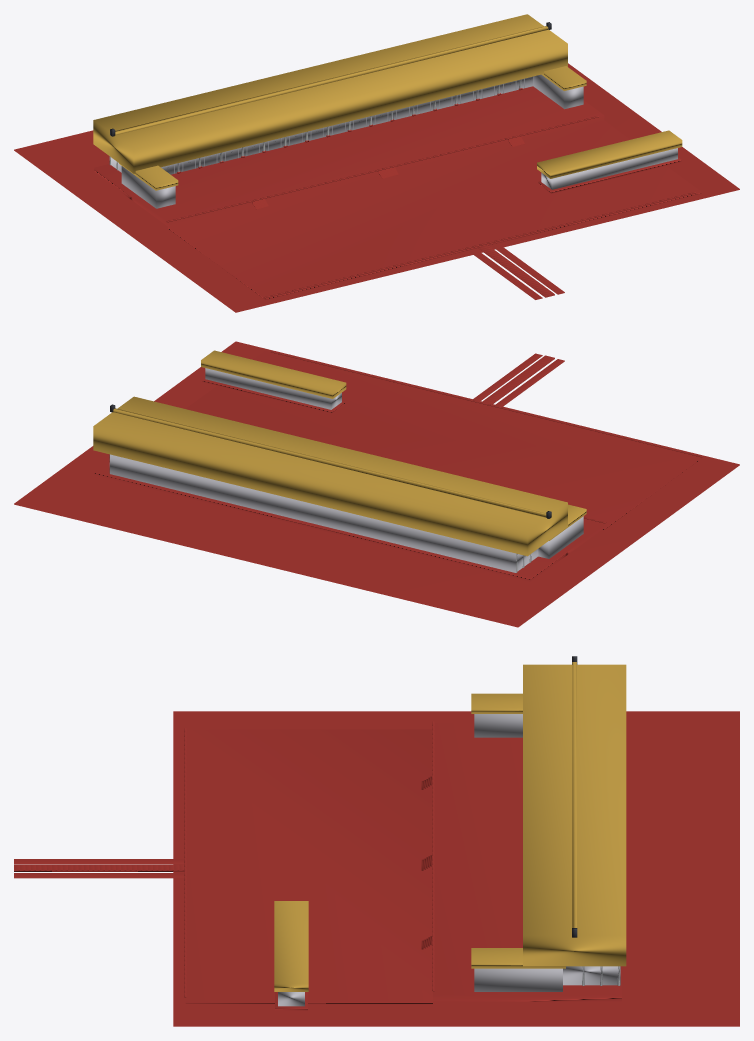
3 renders of one model, top to bottom at view 1: azimuth 30°, elevation 25°; view 2: azimuth 150°, elevation 25°; view 3: azimuth 270°, elevation 25°, orthographic. The views are drawn at different scales.
Visible parts, largest first — view 1: jongmyo_two_tier_woldae_and_samdo, jongmyo_jeongjeon_matbae_roof, jongmyo_jeongjeon_19bays_hall, gongsindang_matbae_roof, gongsindang_merit_subjects_shrine; view 2: jongmyo_two_tier_woldae_and_samdo, jongmyo_jeongjeon_matbae_roof, jongmyo_jeongjeon_19bays_hall, gongsindang_matbae_roof, gongsindang_merit_subjects_shrine; view 3: jongmyo_two_tier_woldae_and_samdo, jongmyo_jeongjeon_matbae_roof, jongmyo_jeongjeon_19bays_hall, gongsindang_matbae_roof, gongsindang_merit_subjects_shrine.
Part boxes in pixels (x1,y1,x2,y2): jongmyo_two_tier_woldae_and_samdo: [14, 63, 739, 312]; jongmyo_jeongjeon_matbae_roof: [93, 14, 586, 190]; jongmyo_jeongjeon_19bays_hall: [109, 74, 583, 208]; gongsindang_matbae_roof: [537, 130, 682, 178]; gongsindang_merit_subjects_shrine: [538, 148, 681, 193]; jongmyo_two_tier_woldae_and_samdo: [14, 341, 739, 627]; jongmyo_jeongjeon_matbae_roof: [93, 396, 586, 556]; jongmyo_jeongjeon_19bays_hall: [109, 454, 583, 572]; gongsindang_matbae_roof: [201, 350, 346, 398]; gongsindang_merit_subjects_shrine: [202, 368, 344, 413]; jongmyo_two_tier_woldae_and_samdo: [14, 711, 739, 1026]; jongmyo_jeongjeon_matbae_roof: [471, 656, 626, 968]; jongmyo_jeongjeon_19bays_hall: [474, 714, 620, 991]; gongsindang_matbae_roof: [274, 901, 308, 991]; gongsindang_merit_subjects_shrine: [275, 992, 307, 1010].
Size of the model in its own units: 126 by 14.3 by 123.
Materials: 4 (4 with a texture image).
